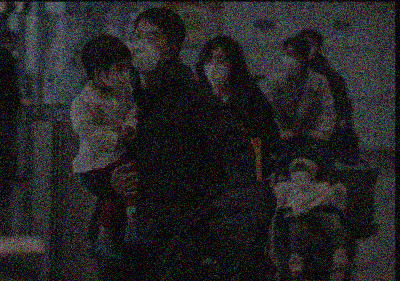with_mask: (130, 25, 166, 72), (202, 51, 228, 84), (106, 58, 130, 90), (278, 45, 299, 74), (289, 163, 311, 183)
